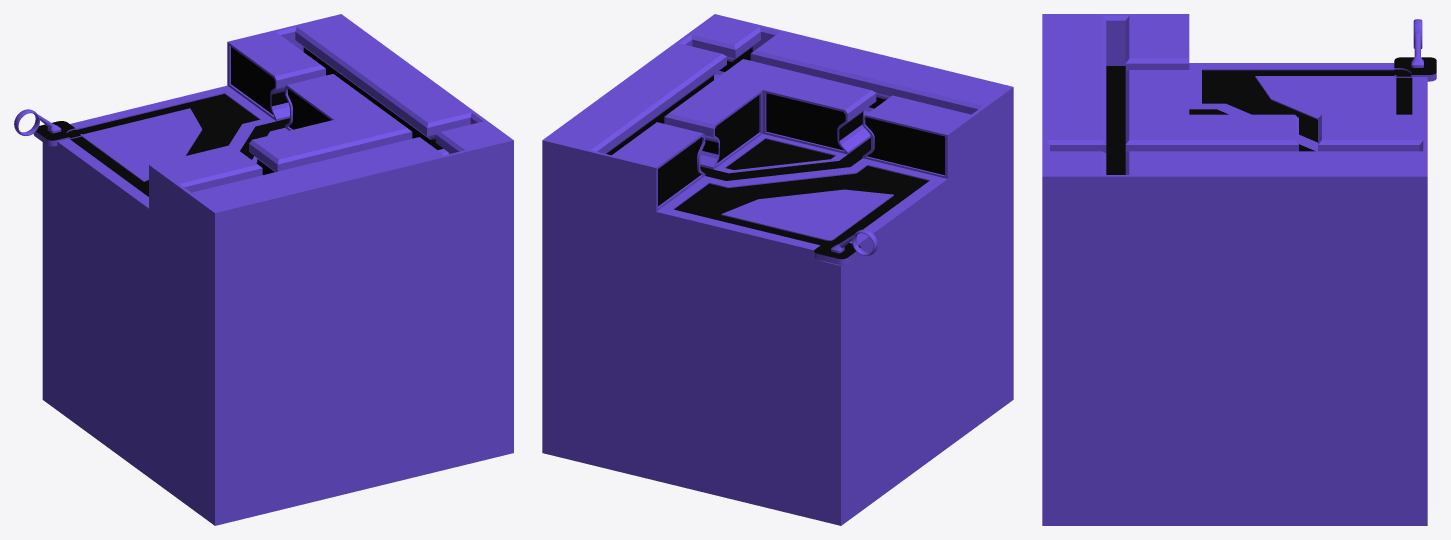
The model's file is inertia_home.fbx.
3 views of the same model, side by side, from view 1: azimuth 30°, elevation 25°; view 2: azimuth 150°, elevation 25°; view 3: azimuth 270°, elevation 25° (orthographic). The views are drawn at different scales.
Parts seen in each view (by area): view 1: Cube, Cube.001; view 2: Cube, Cube.001; view 3: Cube, Cube.001.
Boxes of the visible parts, <box> form: Cube: <box>42,14,513,525</box>; Cube.001: <box>14,109,82,146</box>; Cube: <box>542,14,1013,525</box>; Cube.001: <box>813,229,877,265</box>; Cube: <box>1042,14,1427,525</box>; Cube.001: <box>1394,19,1436,81</box>.
Size of the model in its own units: 5529 by 5000 by 5120.
